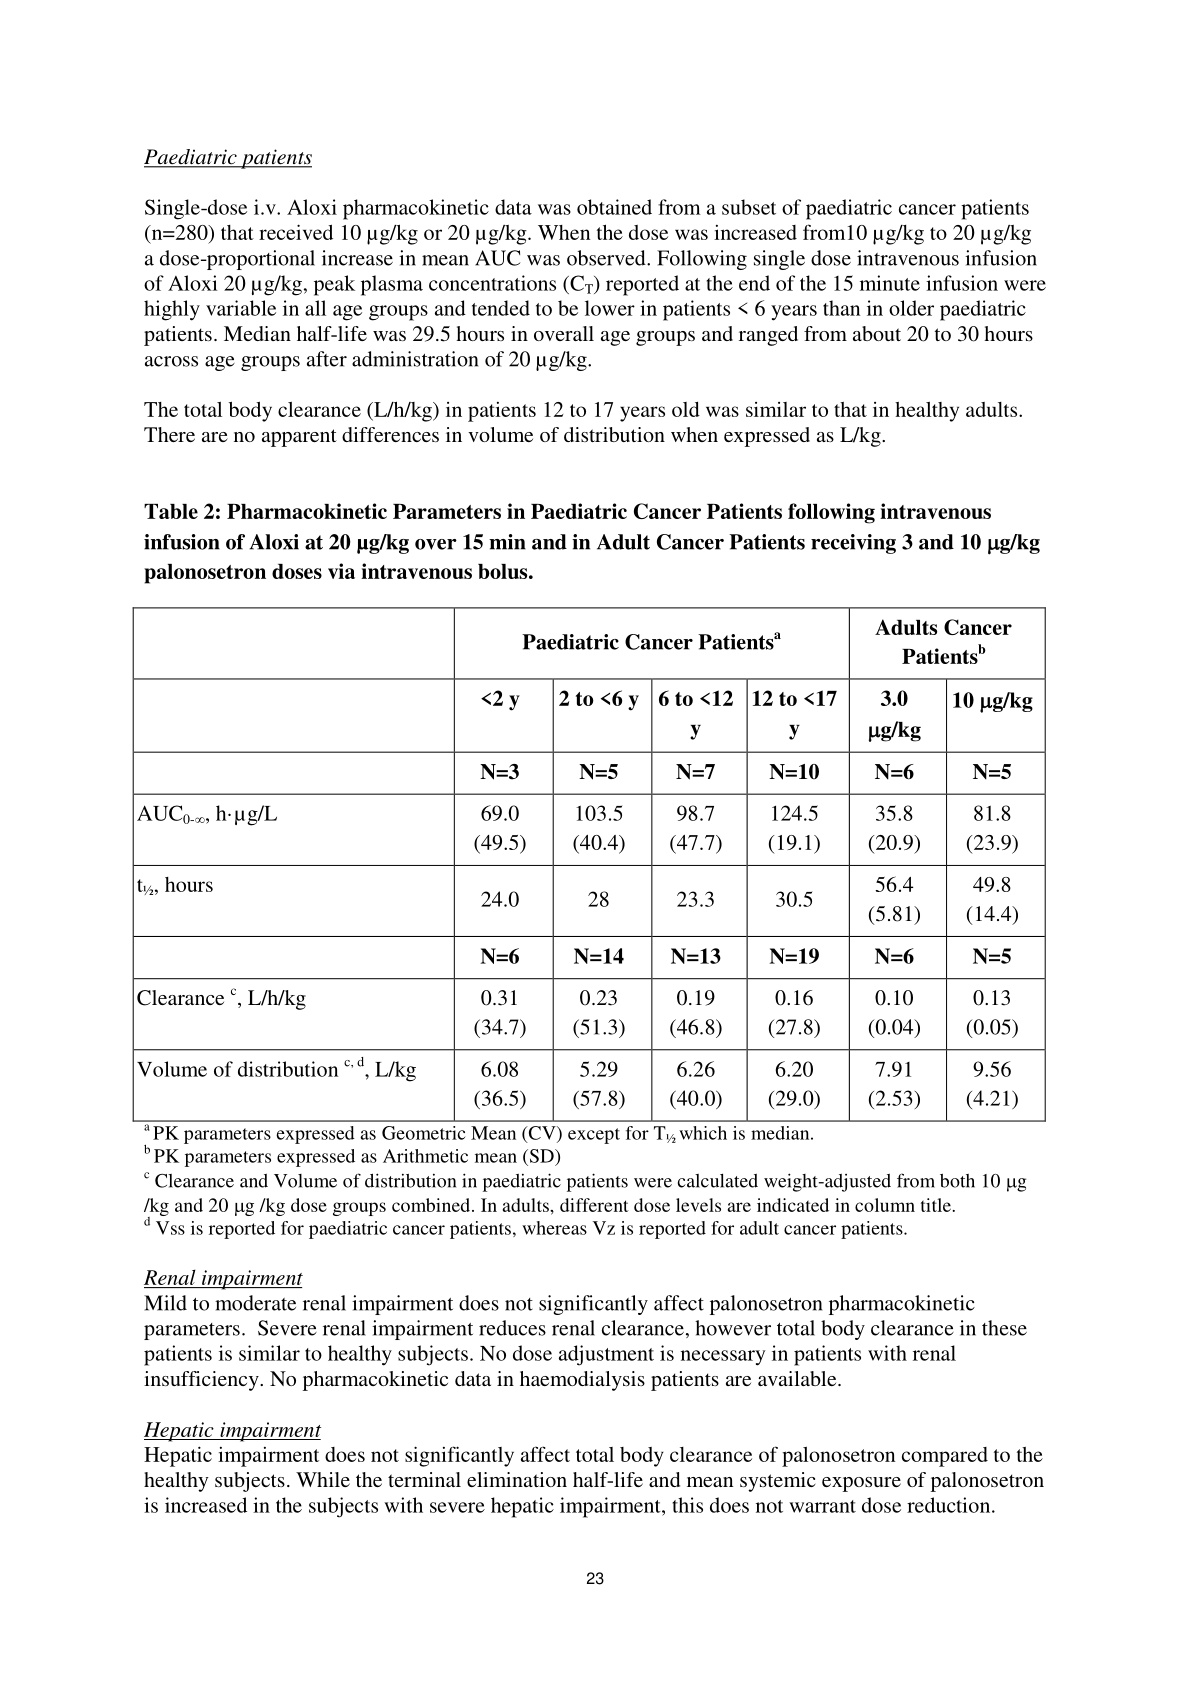merged_cells: (131, 606, 1047, 1122)
